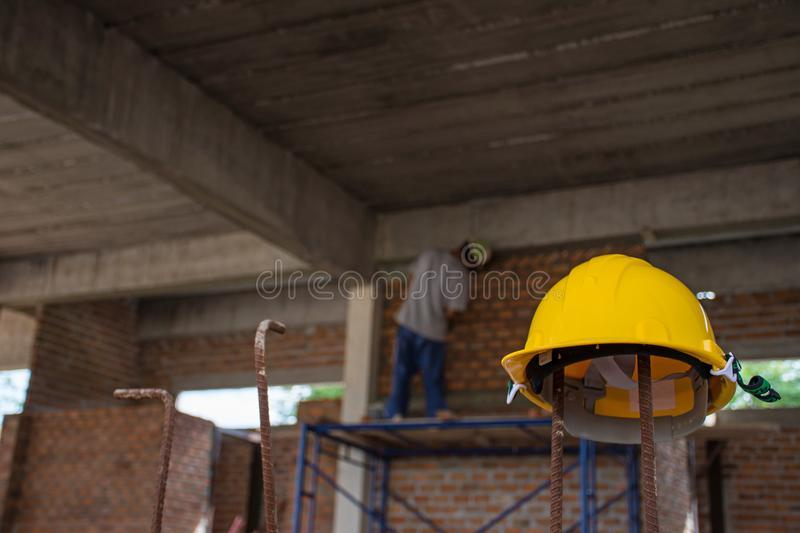helmet: (500, 250, 739, 427)
